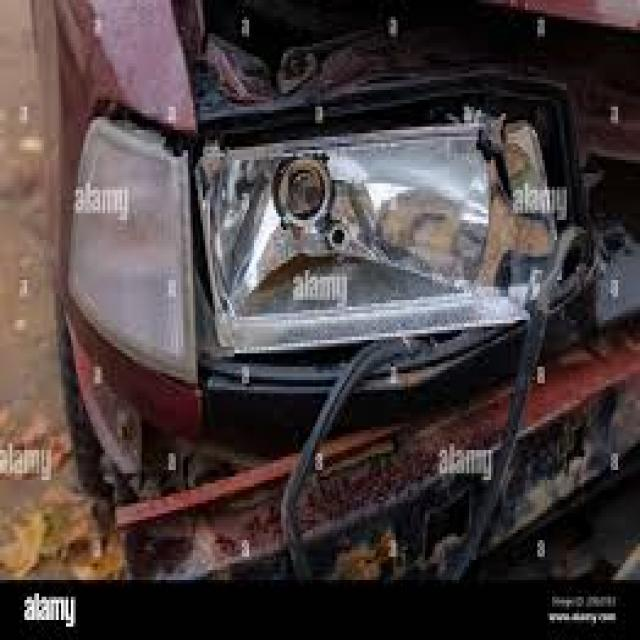damaged-head-light: (86, 113, 609, 357)
